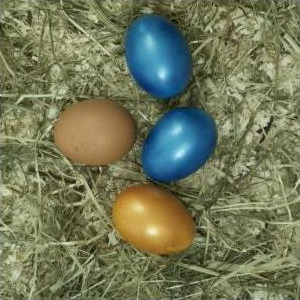egg: (140, 105, 217, 184), (113, 185, 197, 256), (127, 14, 194, 101), (53, 99, 138, 166)
